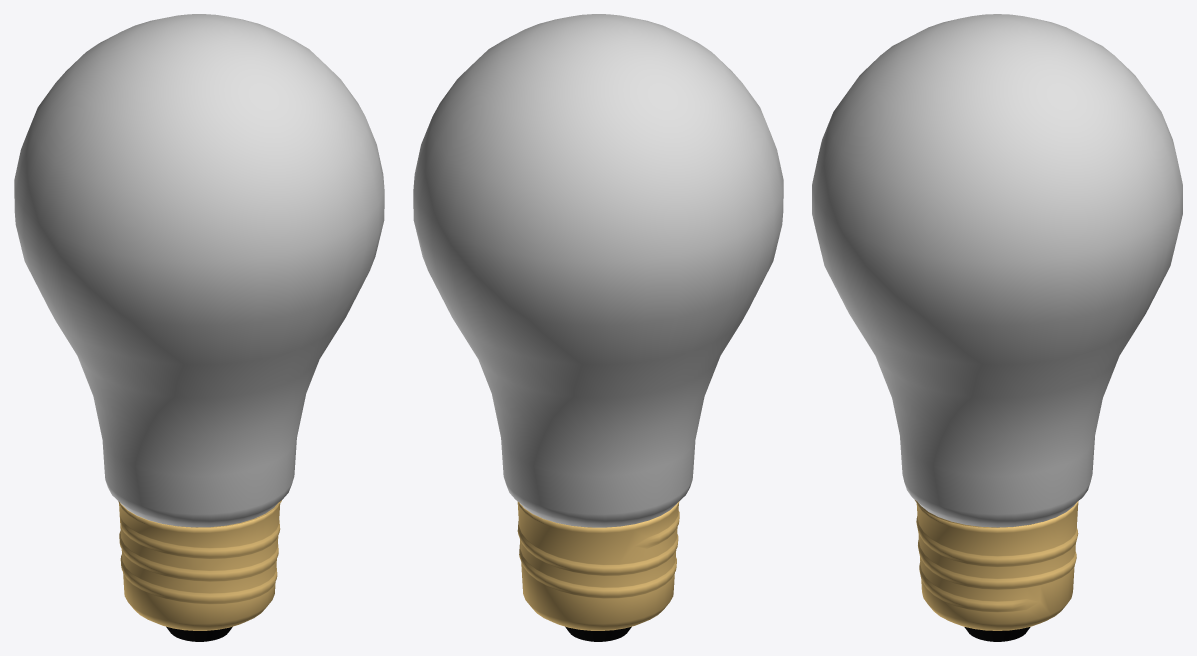
Rendered from edison_light_bulb_4.glb.
3 views of the same model, side by side, from view 1: azimuth 30°, elevation 25°; view 2: azimuth 150°, elevation 25°; view 3: azimuth 270°, elevation 25° (orthographic).
Visible parts, largest first — view 1: glassObj, base, conductor; view 2: glassObj, base, conductor; view 3: glassObj, base, conductor.
Part boxes in pixels (x1=…): glassObj: x1=14, y1=14, x2=384, y2=527; base: x1=118, y1=500, x2=281, y2=630; conductor: x1=166, y1=626, x2=232, y2=641; glassObj: x1=413, y1=14, x2=783, y2=527; base: x1=517, y1=501, x2=679, y2=630; conductor: x1=565, y1=626, x2=631, y2=641; glassObj: x1=812, y1=14, x2=1182, y2=527; base: x1=914, y1=499, x2=1078, y2=630; conductor: x1=964, y1=627, x2=1030, y2=641.
Size of the model in its own units: 4.96 by 8.93 by 4.96.
